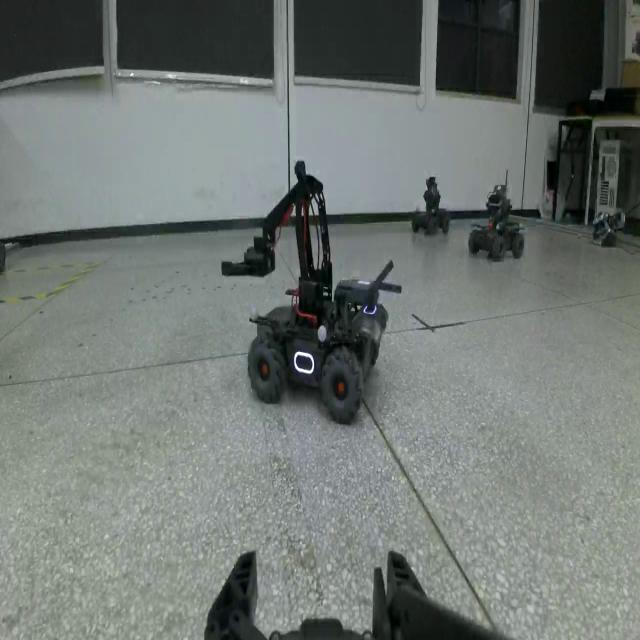ep: (218, 155, 400, 433)
s1: (466, 168, 525, 266), (407, 174, 451, 238)
